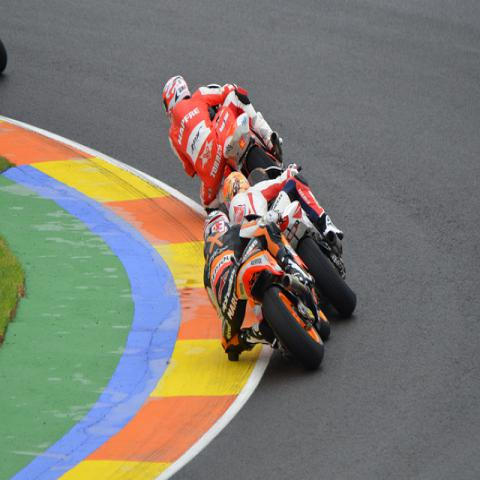motorcycle: (234, 236, 330, 371), (0, 36, 8, 76)
